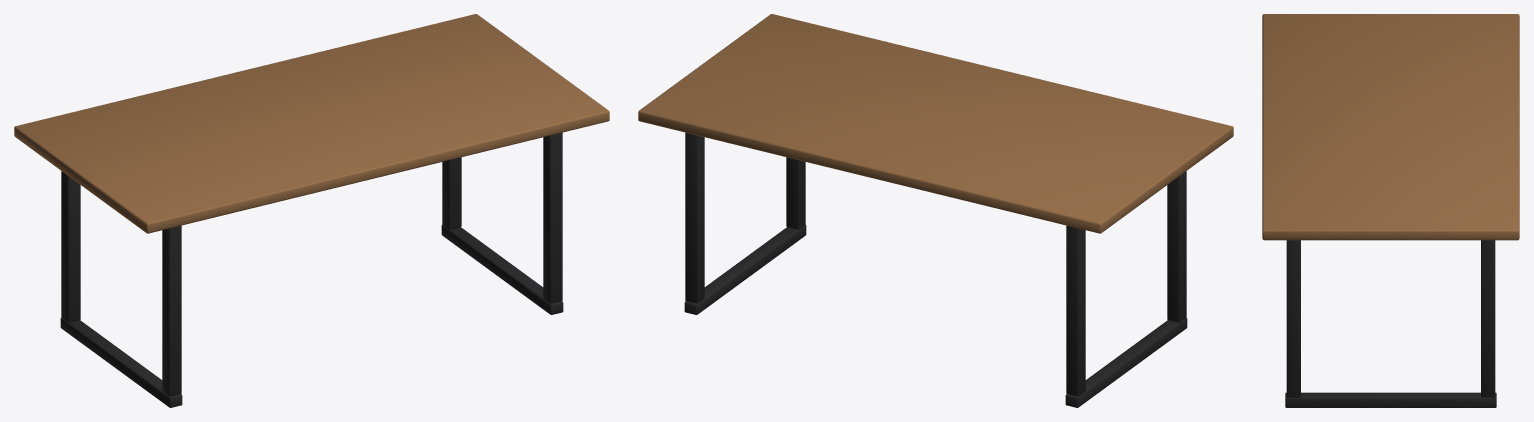
The model's file is mesa-taller.glb.
3 views of the same model, side by side, from view 1: azimuth 30°, elevation 25°; view 2: azimuth 150°, elevation 25°; view 3: azimuth 270°, elevation 25° (orthographic). The views are drawn at different scales.
Visible parts, largest first — view 1: taller_cubierta, taller_poste_1_-1, taller_poste_-1_-1, taller_poste_-1_1, taller_pie_1, taller_pie_-1, taller_poste_1_1; view 2: taller_cubierta, taller_poste_1_1, taller_poste_-1_1, taller_poste_-1_-1, taller_pie_1, taller_pie_-1, taller_poste_1_-1; view 3: taller_cubierta, taller_pie_1, taller_poste_1_1, taller_poste_1_-1.
Part boxes in pixels (left/top/right/bottom): taller_cubierta: left=14, top=14, right=609, bottom=233; taller_poste_1_-1: left=543, top=132, right=562, bottom=303; taller_poste_-1_-1: left=162, top=225, right=181, bottom=396; taller_poste_-1_1: left=61, top=171, right=80, bottom=322; taller_pie_1: left=441, top=224, right=563, bottom=314; taller_pie_-1: left=60, top=317, right=182, bottom=407; taller_poste_1_1: left=442, top=157, right=461, bottom=229; taller_cubierta: left=638, top=14, right=1233, bottom=233; taller_poste_1_1: left=685, top=132, right=704, bottom=303; taller_poste_-1_1: left=1066, top=225, right=1085, bottom=396; taller_poste_-1_-1: left=1167, top=171, right=1186, bottom=322; taller_pie_1: left=684, top=224, right=806, bottom=314; taller_pie_-1: left=1065, top=317, right=1187, bottom=407; taller_poste_1_-1: left=786, top=157, right=805, bottom=229; taller_cubierta: left=1262, top=14, right=1519, bottom=240; taller_pie_1: left=1285, top=392, right=1496, bottom=407; taller_poste_1_1: left=1481, top=240, right=1495, bottom=397; taller_poste_1_-1: left=1286, top=240, right=1300, bottom=397.
Size of the model in its own units: 1.8 by 0.75 by 0.9.
